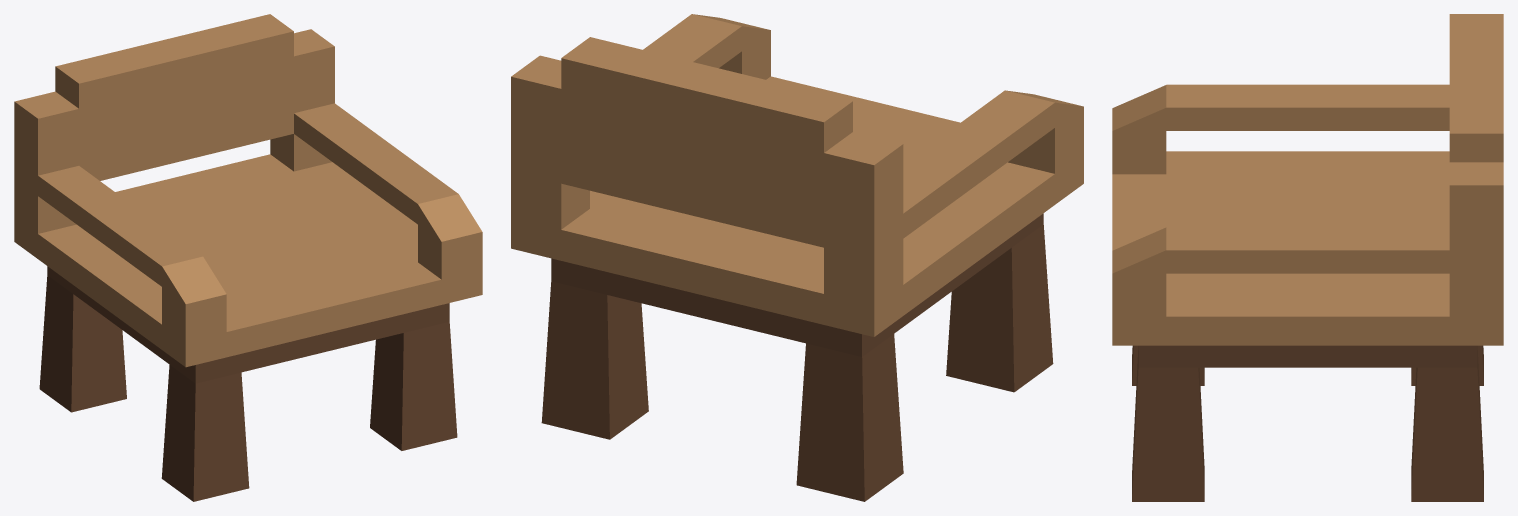
The model's file is qt-chair-handle.glb.
3 views of the same model, side by side, from view 1: azimuth 30°, elevation 25°; view 2: azimuth 150°, elevation 25°; view 3: azimuth 270°, elevation 25° (orthographic). The views are drawn at different scales.
Parts seen in each view (by area): view 1: HandleChair_Cube.017; view 2: HandleChair_Cube.017; view 3: HandleChair_Cube.017.
Boxes of the visible parts, <box> form: HandleChair_Cube.017: <box>14,14,482,501</box>; HandleChair_Cube.017: <box>511,14,1083,501</box>; HandleChair_Cube.017: <box>1112,14,1503,501</box>.
Size of the model in its own units: 1 by 1 by 1.
